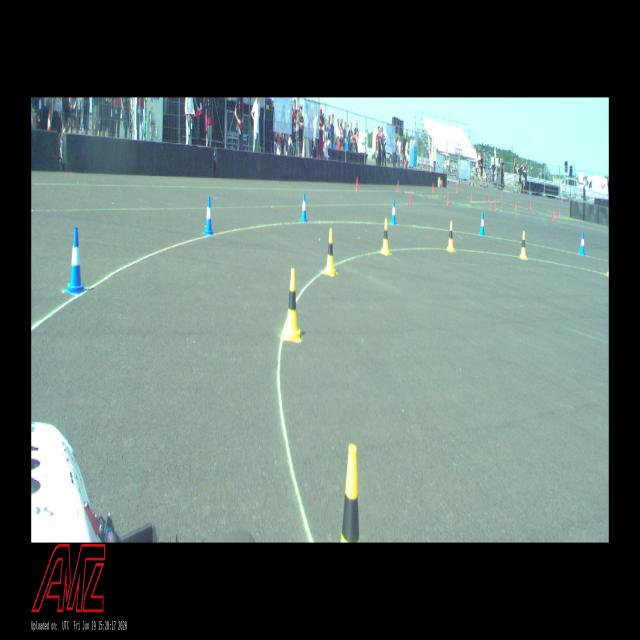blue_cone: (65, 227, 85, 294), (204, 196, 212, 235), (300, 193, 307, 222), (580, 232, 586, 255), (479, 213, 485, 235), (391, 200, 396, 224)
unknown_cone: (446, 192, 449, 206), (409, 191, 411, 205), (356, 177, 358, 191), (494, 198, 496, 211), (397, 179, 399, 192), (470, 191, 472, 203), (552, 210, 554, 221), (432, 182, 434, 193), (558, 207, 560, 218), (488, 193, 490, 203), (530, 200, 532, 210), (500, 193, 502, 202), (514, 200, 516, 209), (456, 184, 458, 192)
yellow_cone: (341, 444, 359, 542), (283, 268, 300, 341), (324, 228, 336, 276), (381, 218, 389, 256), (447, 221, 454, 251), (520, 231, 526, 259)
